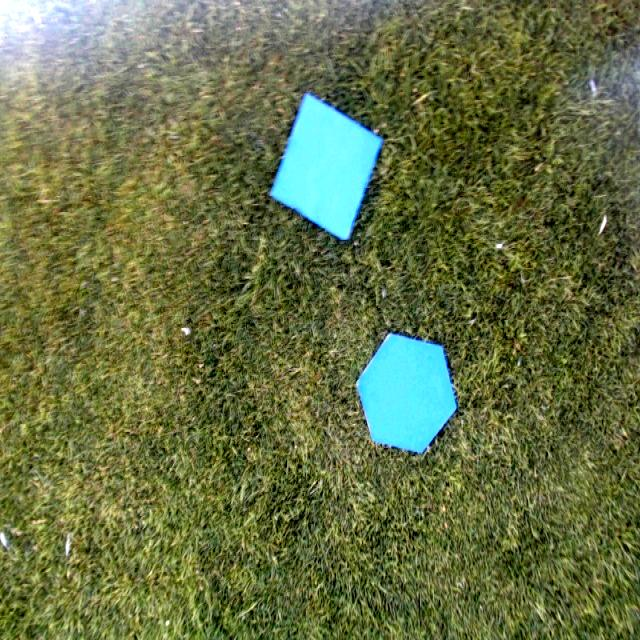blue_hexagon: (352, 333, 458, 452)
blue_square: (266, 91, 385, 242)
